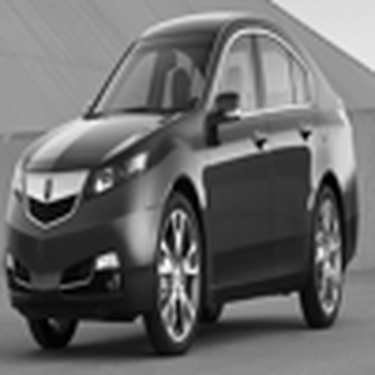car: (3, 6, 363, 360)
